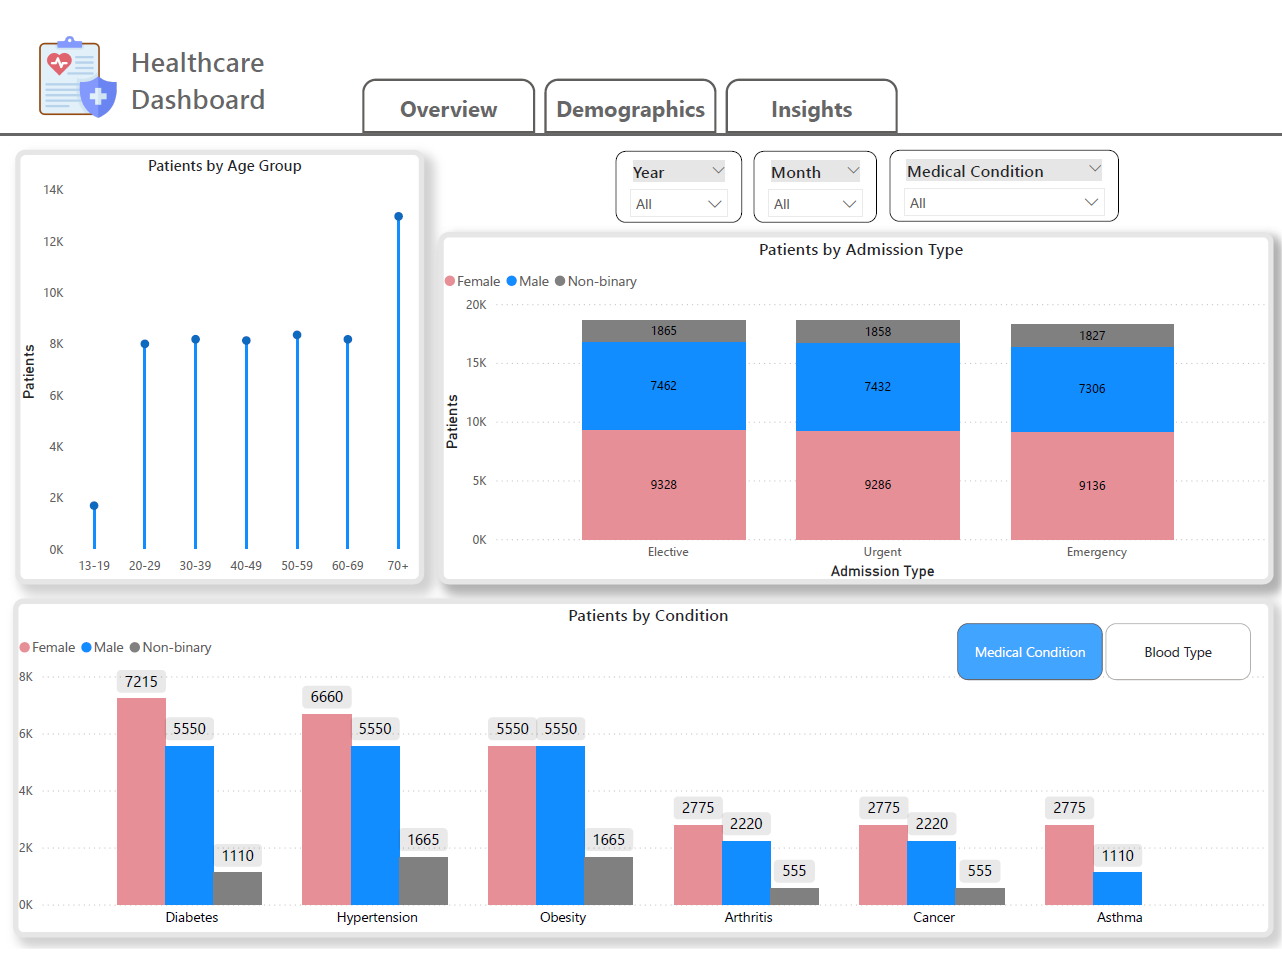

The dashboard page shown, as its layout file describes it:
{"tool":"powerbi","page":{"name":"Demographics","canvas":[1250,900],"ordinal":1},"visuals":[{"type":"slicer","fields":{"Values":["DimDate.Year"]},"box":[602,125.4,122.9,70],"z":0},{"type":"lineChart","title":"Patients by Age Group","fields":{"Category":["Dim Patient.Age Band"],"Y":["Measure.Patients"]},"box":[18.6,124.3,397.1,421.4],"z":1000},{"type":"columnChart","title":"Patients by Admission Type","fields":{"Category":["Dim Patient.Admission Type"],"Y":["Measure.Patients"],"Series":["Dim Patient.Gender"]},"box":[430,203.8,811.2,342.5],"z":2000},{"type":"clusteredColumnChart","fields":{"Category":["Dim Patient.Medical Condition"],"Y":["Measure.Patients"],"Series":["Dim Patient.Gender"]},"box":[17.1,560,1224.3,328.6],"z":3000},{"type":"textbox","box":[126.2,14.5,230,98.6],"z":4000},{"type":"image","box":[31.5,14.5,94.6,78.9],"z":5000},{"type":"shape","box":[0,94.6,1249.9,28.9],"z":6000},{"type":"actionButton","box":[356.5,54.9,167.7,53.5],"z":7000},{"type":"actionButton","box":[532.6,54.9,167.7,53.5],"z":8000},{"type":"actionButton","box":[708.7,54.9,167.7,53.5],"z":9000},{"type":"slicer","fields":{"Values":["DimDate.Month"]},"box":[736.3,125.4,120,70],"z":10000},{"type":"advancedSlicerVisual","fields":{"Values":["Parameter.Parameter"]},"box":[928.6,578.6,295.7,65.7],"z":11000},{"type":"slicer","fields":{"Values":["Dim Patient.Medical Condition"]},"box":[867.7,124,222.9,70],"z":12000}]}

Visuals, with their boxes on the page's 1250x900 design canvas (x1, y1, x2, y2). These are canvas units, not pixel positions in the 1282x963 screenshot, which may show the page scaled, cropped or inside an application window:
slicer - DimDate.Year: [x1=602, y1=125, x2=725, y2=195]
"Patients by Age Group" lineChart: [x1=19, y1=124, x2=416, y2=546]
"Patients by Admission Type" columnChart: [x1=430, y1=204, x2=1241, y2=546]
clusteredColumnChart - Dim Patient.Medical Condition x Measure.Patients: [x1=17, y1=560, x2=1241, y2=889]
textbox: [x1=126, y1=14, x2=356, y2=113]
image: [x1=32, y1=14, x2=126, y2=93]
shape: [x1=0, y1=95, x2=1250, y2=124]
actionButton: [x1=356, y1=55, x2=524, y2=108]
actionButton: [x1=533, y1=55, x2=700, y2=108]
actionButton: [x1=709, y1=55, x2=876, y2=108]
slicer - DimDate.Month: [x1=736, y1=125, x2=856, y2=195]
advancedSlicerVisual - Parameter.Parameter: [x1=929, y1=579, x2=1224, y2=644]
slicer - Dim Patient.Medical Condition: [x1=868, y1=124, x2=1091, y2=194]
